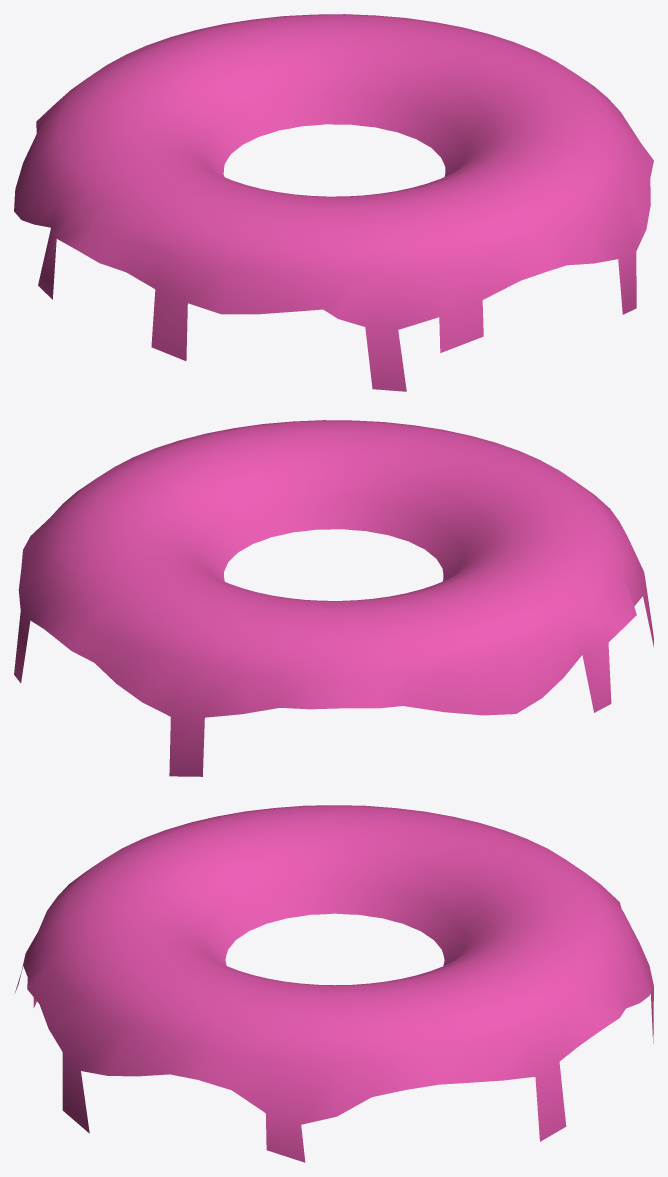
File: doughnut.glb
The picture shows the model from 3 angles, top to bottom: view 1: azimuth 30°, elevation 25°; view 2: azimuth 150°, elevation 25°; view 3: azimuth 270°, elevation 25°; orthographic projection.
Parts seen in each view (by area): view 1: Icing; view 2: Icing; view 3: Icing.
Part boxes in pixels (<box>): Icing: <box>14,14,653,391</box>; Icing: <box>14,420,653,776</box>; Icing: <box>14,805,653,1162</box>.
Size of the model in its own units: 0.1512 by 0.037 by 0.1503.
